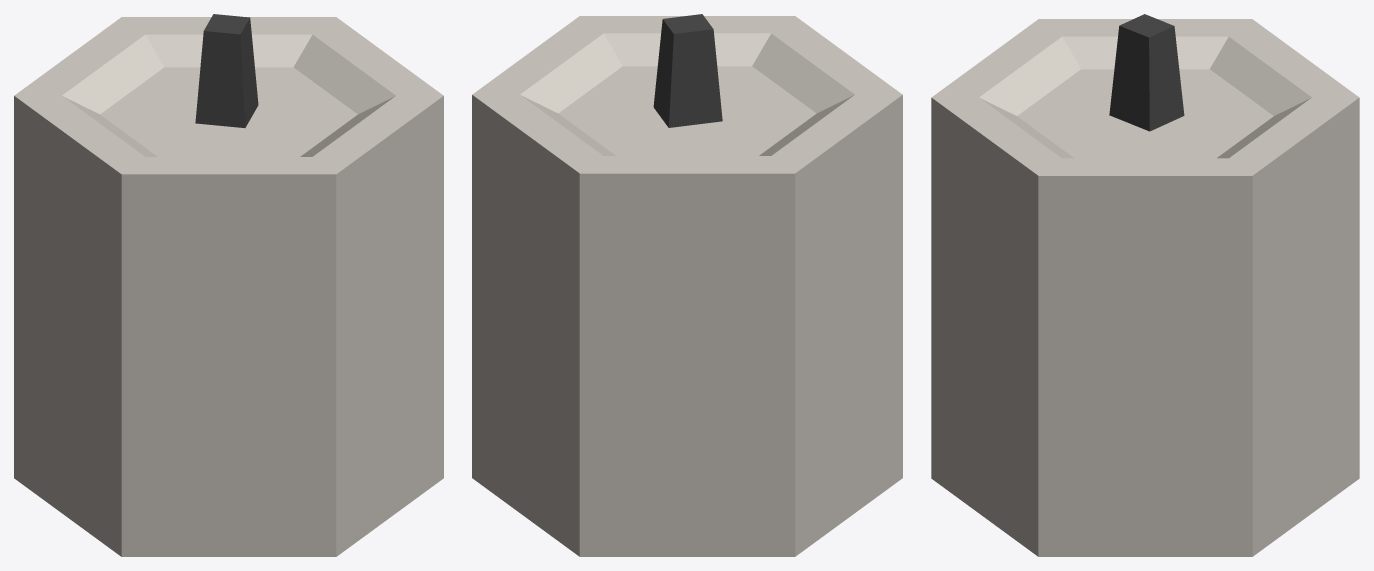
Rendered from SM_Prop_Candles_02.fbx.
The picture shows the model from 3 angles, left to right: view 1: azimuth 30°, elevation 25°; view 2: azimuth 150°, elevation 25°; view 3: azimuth 270°, elevation 25°; orthographic projection.
Visible parts, largest first — view 1: SM_Prop_Candles_02; view 2: SM_Prop_Candles_02; view 3: SM_Prop_Candles_02.
Part boxes in pixels (x1=…): SM_Prop_Candles_02: x1=14, y1=14, x2=443, y2=556; SM_Prop_Candles_02: x1=472, y1=14, x2=902, y2=556; SM_Prop_Candles_02: x1=931, y1=14, x2=1359, y2=556.
Bounding box in the file's own units: 5.87 × 7.9 × 6.77.
